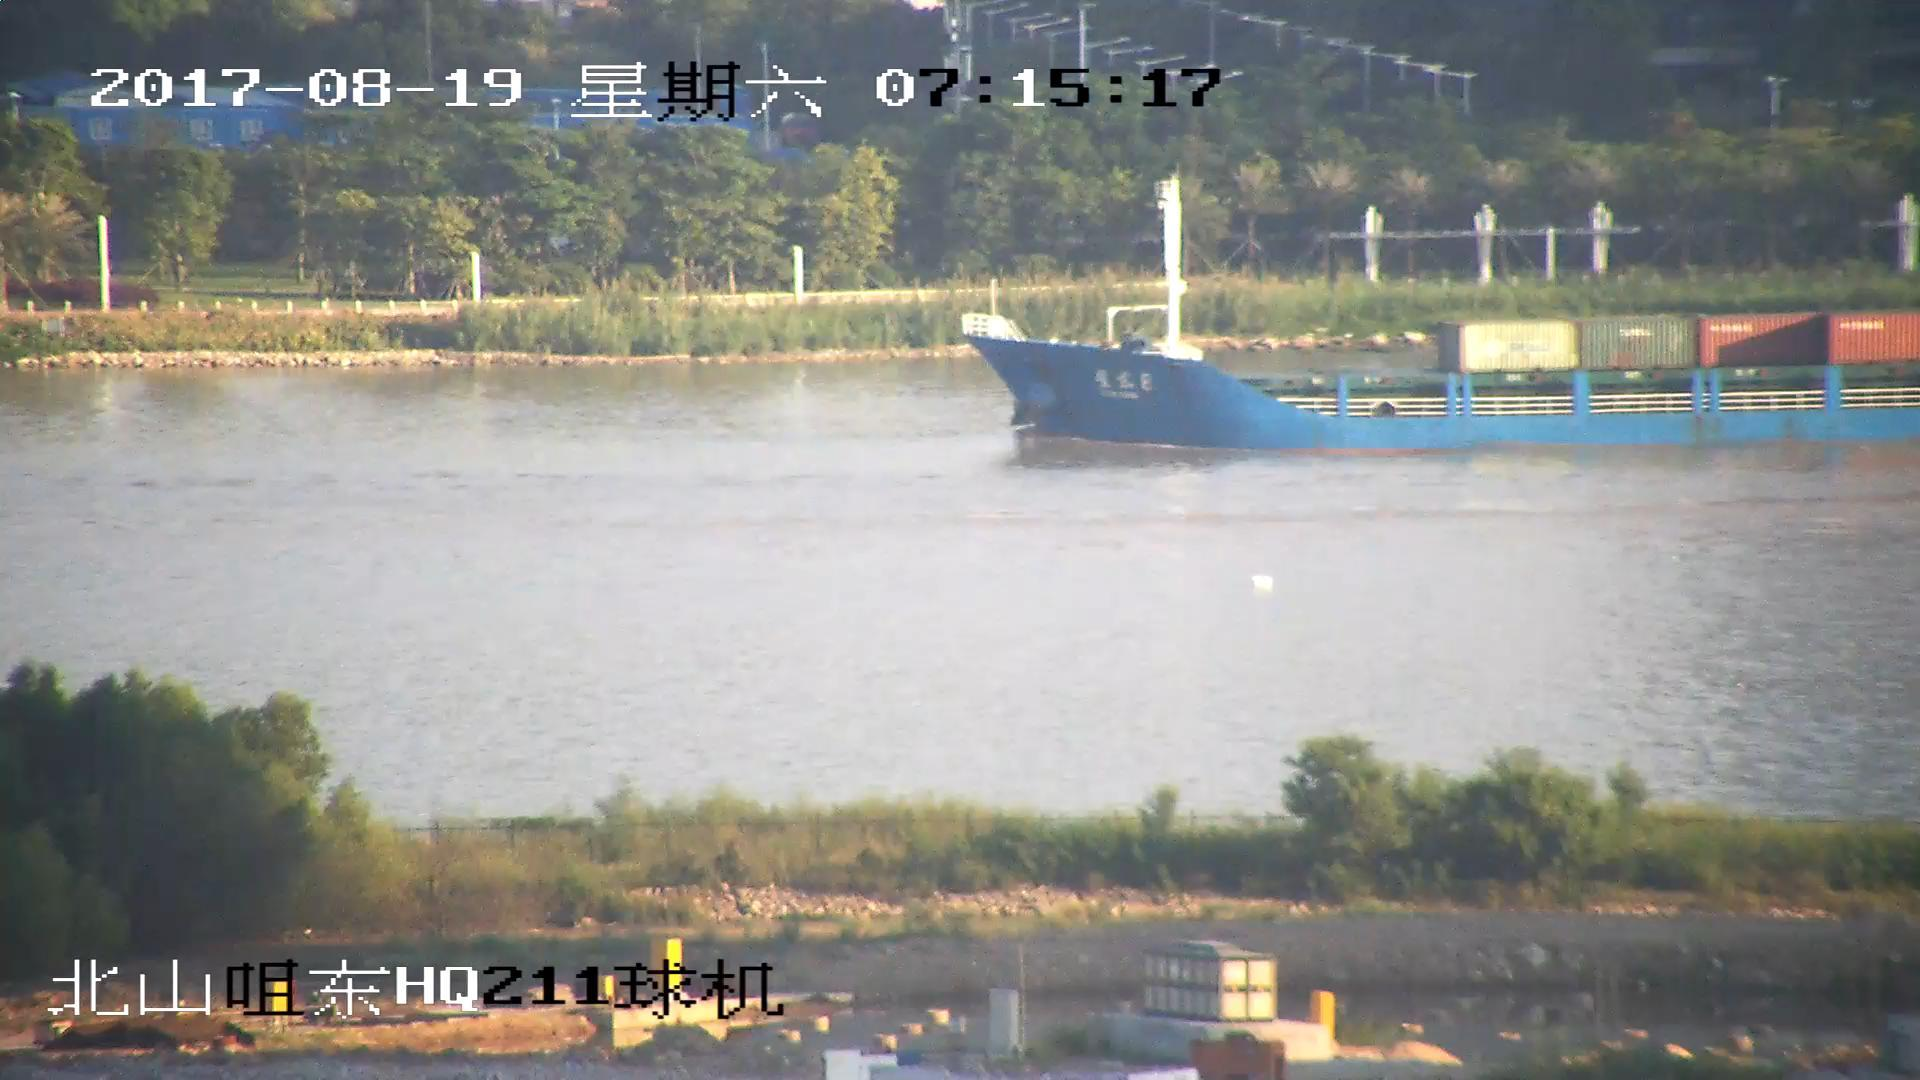Ship: (963, 175, 1920, 446)
